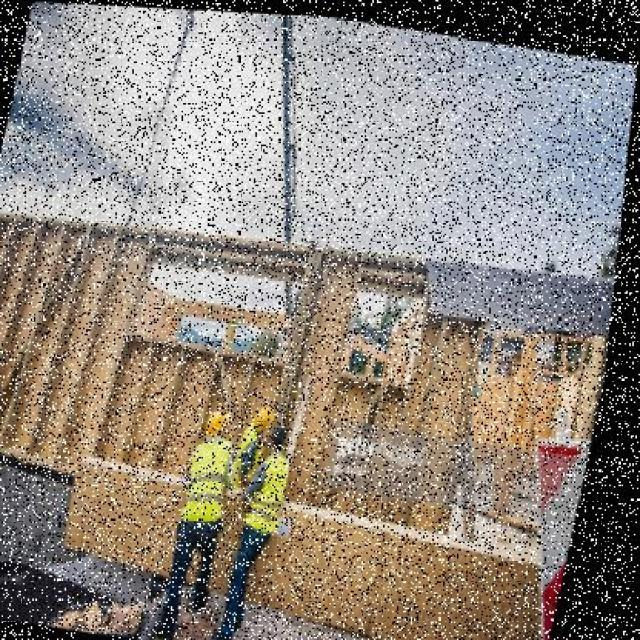vest: (191, 426, 247, 522), (254, 442, 308, 533)
